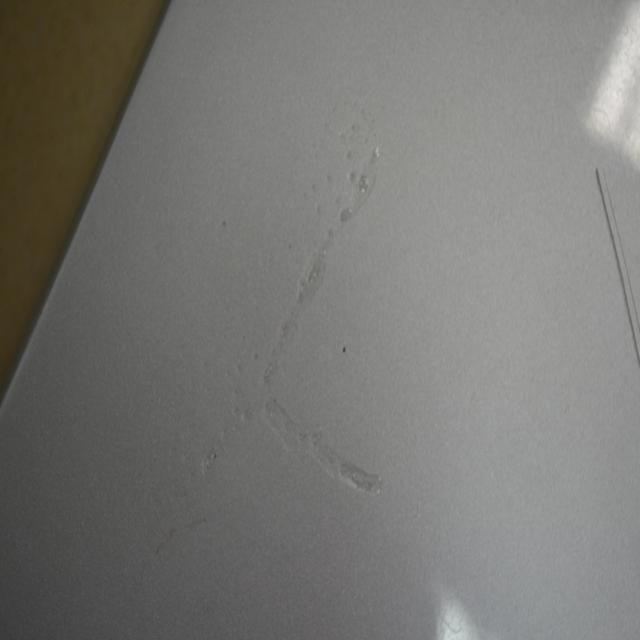dirt: (340, 342, 350, 362), (220, 218, 229, 232)
runs: (203, 88, 388, 502)
scratch: (592, 153, 640, 372)
